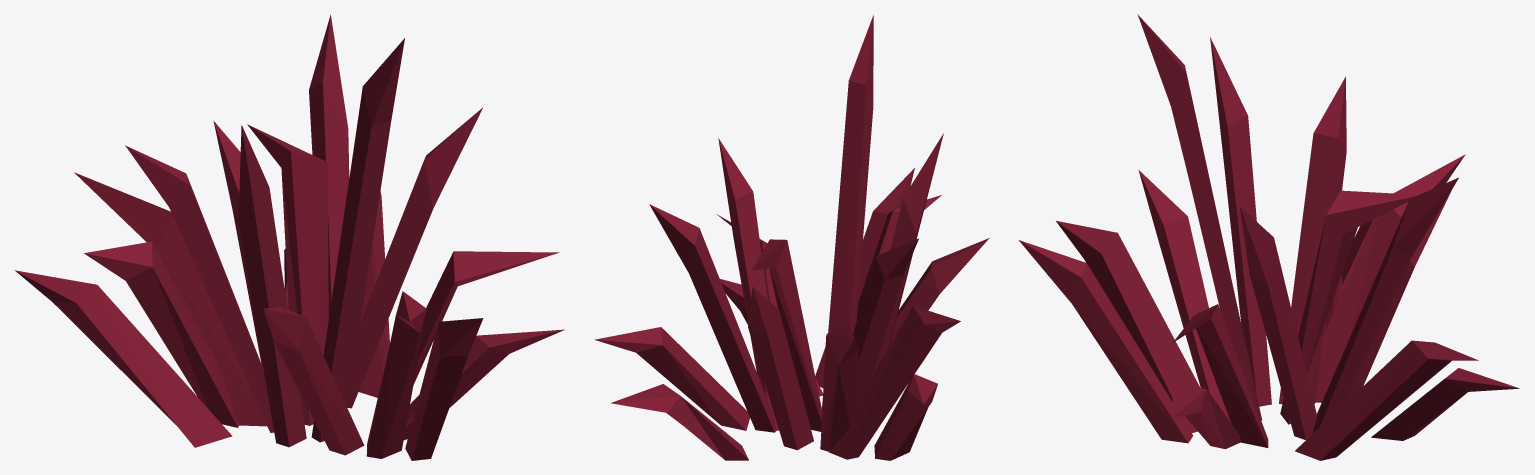
The model's file is Grass3.fbx.
The picture shows the model from 3 angles, left to right: view 1: azimuth 30°, elevation 25°; view 2: azimuth 150°, elevation 25°; view 3: azimuth 270°, elevation 25°; orthographic projection. The views are drawn at different scales.
Parts seen in each view (by area): view 1: Grass3; view 2: Grass3; view 3: Grass3.
Part boxes in pixels (x1=…): Grass3: x1=15, y1=14, x2=564, y2=460; Grass3: x1=594, y1=15, x2=989, y2=460; Grass3: x1=1019, y1=14, x2=1519, y2=460.
Bounding box in the file's own units: 111 × 116 × 129.
